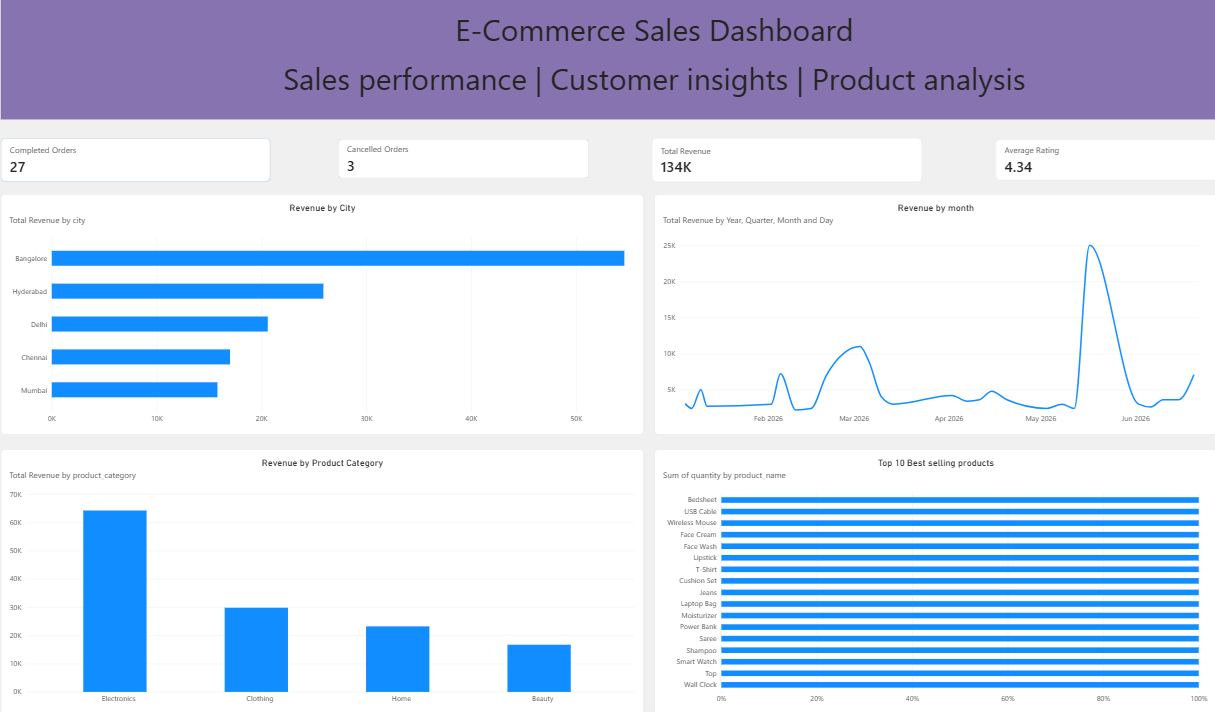

The dashboard page shown, as its layout file describes it:
{"tool":"powerbi","page":{"name":"Page 1","canvas":[2560,1440],"ordinal":0},"visuals":[{"type":"cardVisual","fields":{"Data":["ecommerce.Completed Orders"]},"box":[95,292.5,528,86],"z":0},{"type":"cardVisual","fields":{"Data":["ecommerce.Cancelled Orders"]},"box":[755,295,490,76],"z":1000},{"type":"cardVisual","fields":{"Data":["ecommerce.Total Revenue"]},"box":[1370,292.5,528,86],"z":2000},{"type":"cardVisual","fields":{"Data":["ecommerce.Average Rating"]},"box":[2042.5,295,490,80],"z":3000},{"type":"clusteredColumnChart","title":"Revenue by Product Category","fields":{"Category":["ecommerce.product_category"],"Y":["ecommerce.Total Revenue"]},"box":[95,902.5,1257.5,520],"z":4000},{"type":"lineChart","title":"Revenue by month","fields":{"Category":["ecommerce.order_date.Variation.Date Hierarchy.Year","ecommerce.order_date.Variation.Date Hierarchy.Quarter","ecommerce.order_date.Variation.Date Hierarchy.Month","ecommerce.order_date.Variation.Date Hierarchy.Day"],"Y":["ecommerce.Total Revenue"]},"box":[1375,402.5,1100,470],"z":5000},{"type":"hundredPercentStackedBarChart","title":"Top 10 Best selling products","fields":{"Category":["ecommerce.product_name"],"Y":["Sum(ecommerce.quantity)"]},"box":[1375,902.5,1100,520],"z":6000},{"type":"clusteredBarChart","title":"Revenue by City","fields":{"Category":["ecommerce.city"],"Y":["ecommerce.Total Revenue"]},"box":[95,402.5,1257.5,470],"z":6001},{"type":"textbox","box":[95,22.5,2557.5,235],"z":6002}]}

Visuals, with their boxes on the page's 2560x1440 design canvas (x1, y1, x2, y2). These are canvas units, not pixel positions in the 1215x712 screenshot, which may show the page scaled, cropped or inside an application window:
cardVisual - ecommerce.Completed Orders: left=95, top=292, right=623, bottom=378
cardVisual - ecommerce.Cancelled Orders: left=755, top=295, right=1245, bottom=371
cardVisual - ecommerce.Total Revenue: left=1370, top=292, right=1898, bottom=378
cardVisual - ecommerce.Average Rating: left=2042, top=295, right=2532, bottom=375
"Revenue by Product Category" clusteredColumnChart: left=95, top=902, right=1352, bottom=1422
"Revenue by month" lineChart: left=1375, top=402, right=2475, bottom=872
"Top 10 Best selling products" hundredPercentStackedBarChart: left=1375, top=902, right=2475, bottom=1422
"Revenue by City" clusteredBarChart: left=95, top=402, right=1352, bottom=872
textbox: left=95, top=22, right=2652, bottom=258
